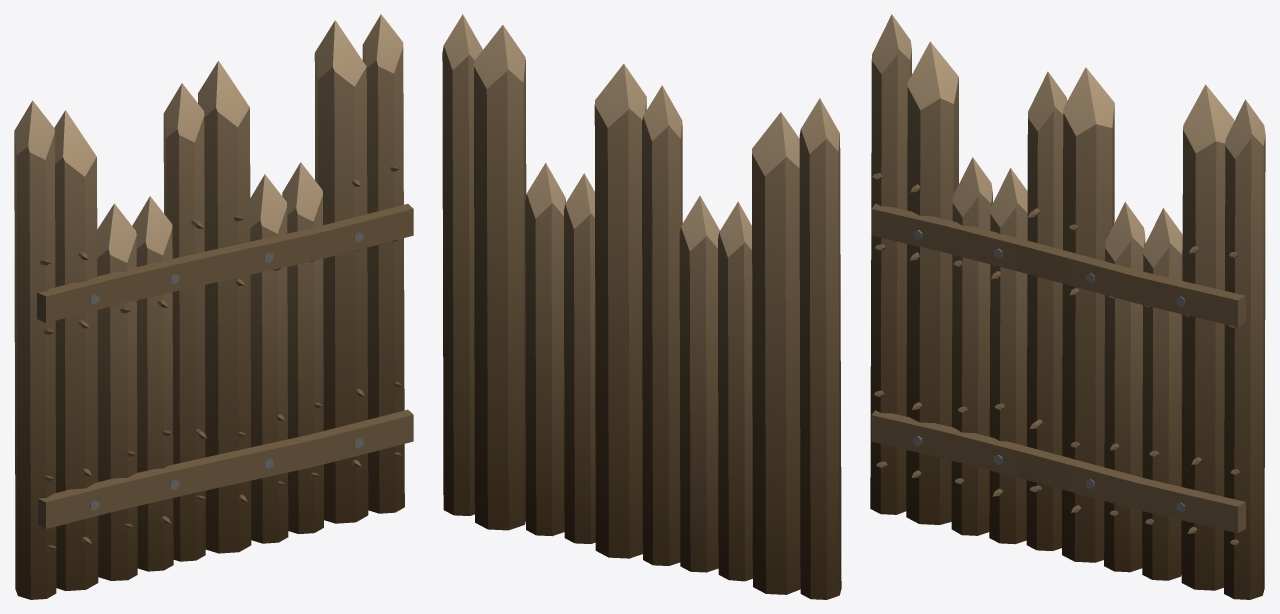
The model's file is PallisadeWall_Planks_Right_CubeFBXASC046001.fbx.
3 views of the same model, side by side, from view 1: azimuth 30°, elevation 25°; view 2: azimuth 150°, elevation 25°; view 3: azimuth 330°, elevation 25° (orthographic).
Parts seen in each view (by area): view 1: PallisadeWall_Planks_Right_Cube.001; view 2: PallisadeWall_Planks_Right_Cube.001; view 3: PallisadeWall_Planks_Right_Cube.001.
Part boxes in pixels (x1,y1,x2,y2): PallisadeWall_Planks_Right_Cube.001: [14, 14, 413, 599]; PallisadeWall_Planks_Right_Cube.001: [442, 14, 841, 599]; PallisadeWall_Planks_Right_Cube.001: [870, 14, 1265, 599].
Bounding box in the file's own units: 120 × 146 × 20.2.
